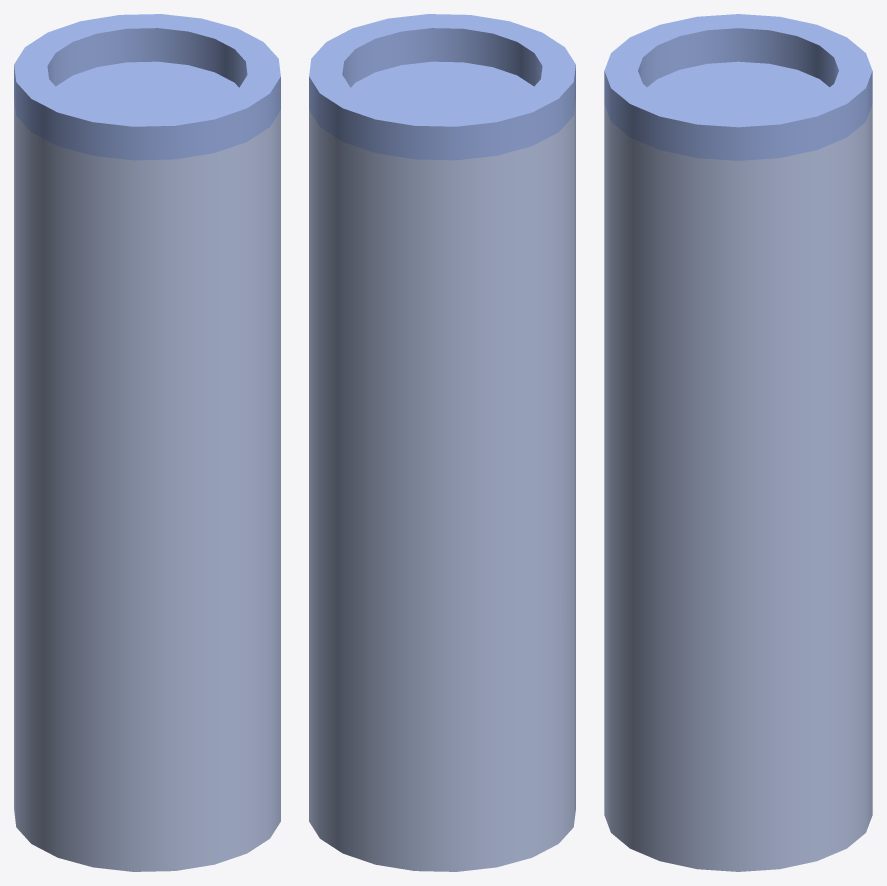
Rendered from house_2_XXsmall.fbx.
3 renders of one model, left to right at view 1: azimuth 30°, elevation 25°; view 2: azimuth 150°, elevation 25°; view 3: azimuth 270°, elevation 25°, orthographic.
Parts seen in each view (by area): view 1: house_2_XXsmall; view 2: house_2_XXsmall; view 3: house_2_XXsmall.
Boxes of the visible parts, <box> form: house_2_XXsmall: <box>14,14,280,871</box>; house_2_XXsmall: <box>309,14,575,871</box>; house_2_XXsmall: <box>604,14,872,871</box>.
Bounding box in the file's own units: 32.99 × 101 × 32.99.
